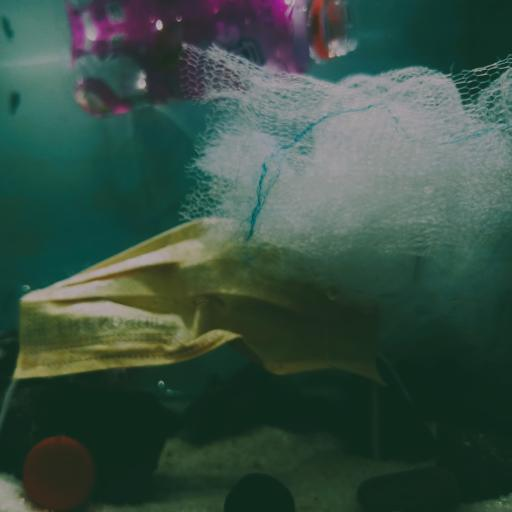bottle_cap: (22, 436, 94, 510), (220, 472, 298, 512)
mask: (0, 219, 386, 392)
net: (170, 42, 512, 319)
plastic_bottle: (67, 26, 355, 123)
